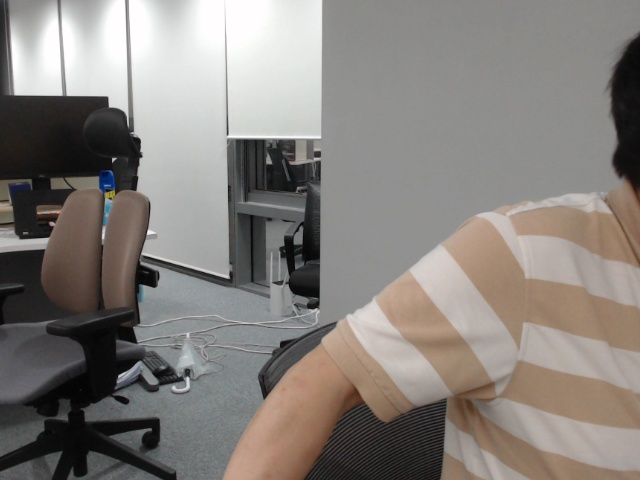chair: (293, 226, 304, 245)
